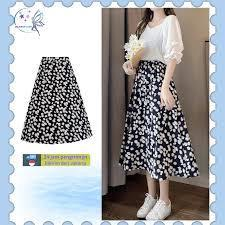shirt: (123, 16, 198, 66)
skirt: (118, 55, 203, 191), (19, 53, 96, 146)
